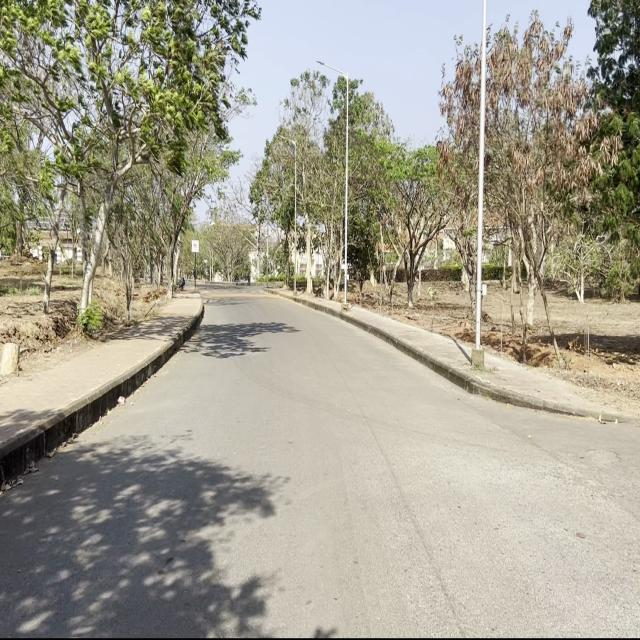Road: (1, 288, 638, 633)
